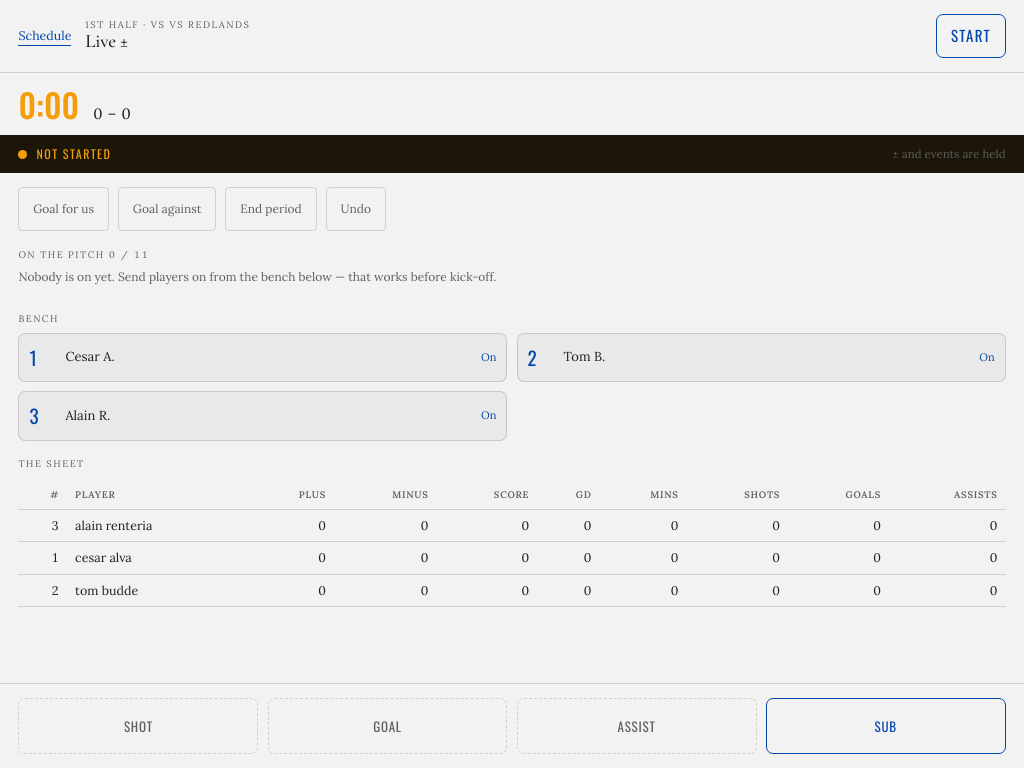
Test case: the clock › starts and stops
Click the button "Start". click: (971, 36)
box: [936, 14, 1006, 58]
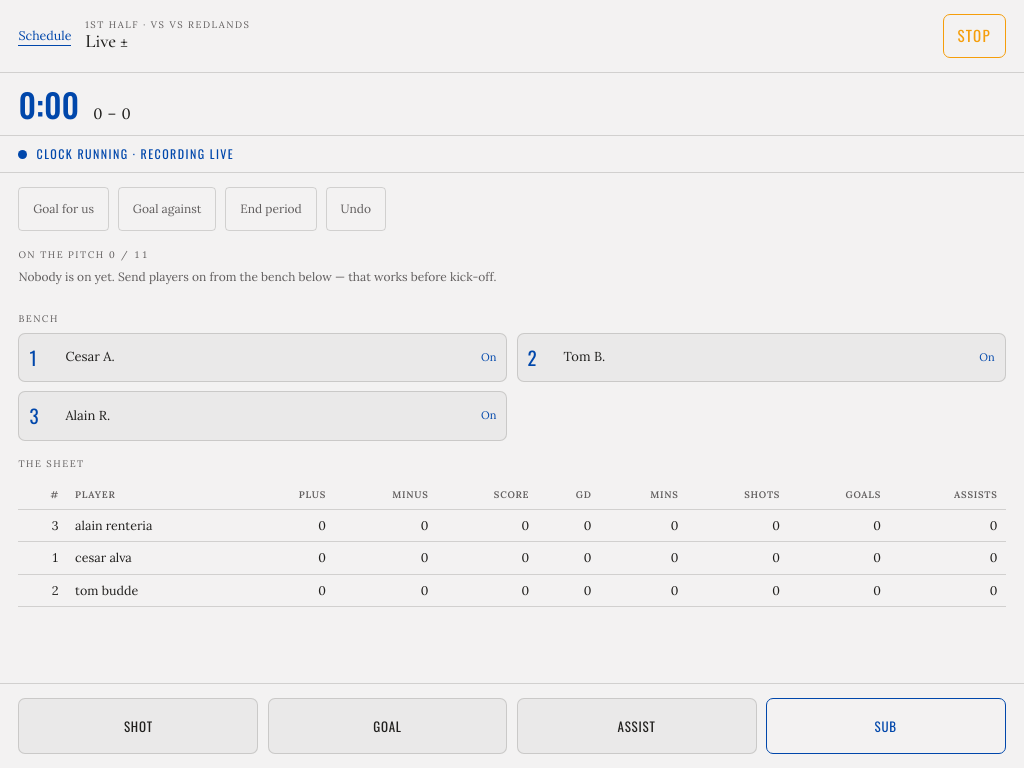
Result: the button "Stop" is shown at [943, 14, 1006, 58]
